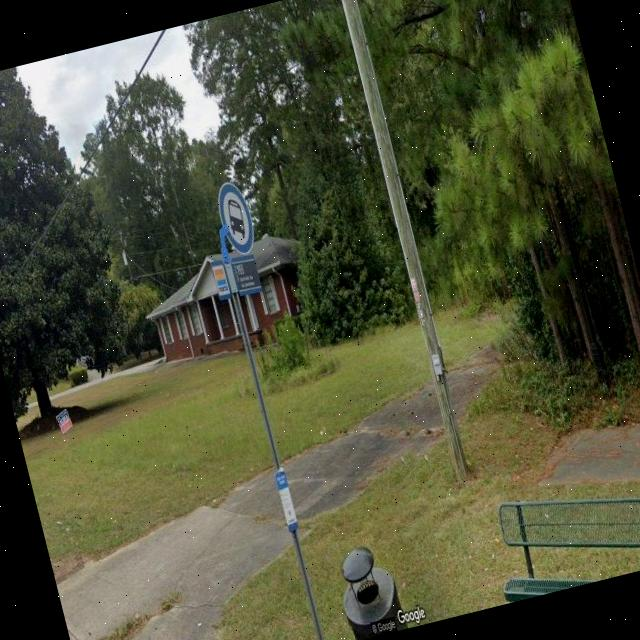seating: (481, 456, 640, 603)
trash_can: (330, 537, 405, 640)
